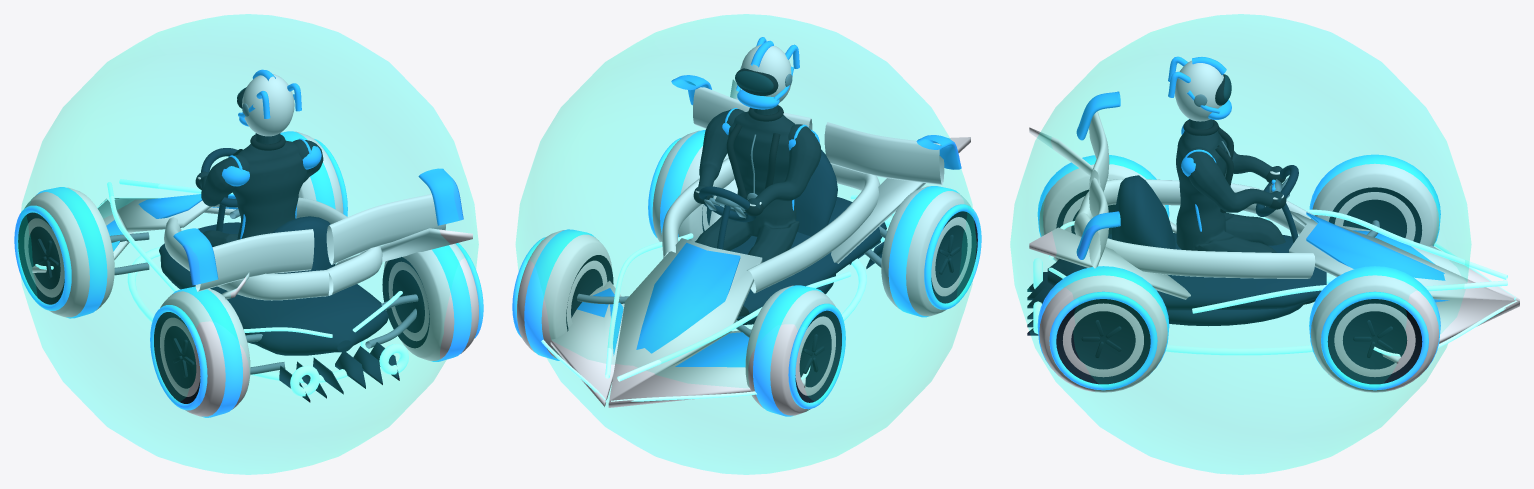
File: vector.glb
3 renders of one model, left to right at view 1: azimuth 30°, elevation 25°; view 2: azimuth 150°, elevation 25°; view 3: azimuth 270°, elevation 25°, orthographic.
Visible parts, largest first — view 1: vector:aegis-shield, vector:coachwork-batch.001, vector:coachwork-batch, vector:torso, vector:rounded-wheel-shell.003, vector:rounded-wheel-shell.002, vector:rounded-wheel-shell, vector:translucent-tire-band, vector:translucent-tire-band.002, vector:helmet-shell, vector:recessed-colored-hub.002, vector:translucent-tire-band.003 (+18 smaller); view 2: vector:aegis-shield, vector:coachwork-batch.001, vector:torso, vector:arrow-bonnet-inlay, vector:coachwork-batch, vector:rounded-wheel-shell.002, vector:rounded-wheel-shell, vector:rounded-wheel-shell.001, vector:translucent-tire-band, vector:translucent-tire-band.002, vector:translucent-tire-band.001, vector:arm-l-mesh (+24 smaller); view 3: vector:aegis-shield, vector:coachwork-batch.001, vector:coachwork-batch, vector:torso, vector:rounded-wheel-shell.003, vector:rounded-wheel-shell.001, vector:rounded-wheel-shell, vector:recessed-colored-hub.003, vector:recessed-colored-hub.001, vector:arrow-bonnet-inlay, vector:arm-r-mesh, vector:rounded-wheel-shell.002 (+15 smaller).
Boxes of the visible parts, left/top/right/bottom form: vector:aegis-shield: left=18, top=14, right=478, bottom=474; vector:coachwork-batch.001: left=32, top=194, right=472, bottom=300; vector:coachwork-batch: left=159, top=195, right=399, bottom=402; vector:torso: left=202, top=133, right=307, bottom=246; vector:rounded-wheel-shell.003: left=383, top=243, right=478, bottom=360; vector:rounded-wheel-shell.002: left=160, top=288, right=250, bottom=416; vector:rounded-wheel-shell: left=24, top=187, right=114, bottom=317; vector:translucent-tire-band: left=36, top=187, right=107, bottom=318; vector:translucent-tire-band.002: left=173, top=286, right=242, bottom=417; vector:helmet-shell: left=242, top=74, right=294, bottom=136; vector:recessed-colored-hub.002: left=154, top=312, right=200, bottom=403; vector:translucent-tire-band.003: left=431, top=245, right=471, bottom=361; vector:aegis-shield: left=516, top=14, right=976, bottom=474; vector:coachwork-batch.001: left=550, top=79, right=970, bottom=407; vector:torso: left=696, top=104, right=799, bottom=262; vector:arrow-bonnet-inlay: left=636, top=242, right=740, bottom=353; vector:coachwork-batch: left=695, top=149, right=886, bottom=324; vector:rounded-wheel-shell.002: left=881, top=186, right=971, bottom=316; vector:rounded-wheel-shell: left=745, top=285, right=835, bottom=415; vector:rounded-wheel-shell.001: left=517, top=230, right=612, bottom=359; vector:translucent-tire-band: left=753, top=285, right=823, bottom=416; vector:translucent-tire-band.002: left=888, top=186, right=959, bottom=317; vector:translucent-tire-band.001: left=524, top=229, right=595, bottom=360; vector:arm-l-mesh: left=748, top=124, right=821, bottom=208; vector:aegis-shield: left=1010, top=14, right=1471, bottom=474; vector:coachwork-batch.001: left=1029, top=111, right=1519, bottom=363; vector:coachwork-batch: left=1027, top=175, right=1326, bottom=335; vector:torso: left=1176, top=119, right=1285, bottom=252; vector:rounded-wheel-shell.003: left=1039, top=275, right=1167, bottom=392; vector:rounded-wheel-shell.001: left=1310, top=275, right=1439, bottom=392; vector:rounded-wheel-shell: left=1312, top=163, right=1439, bottom=245; vector:recessed-colored-hub.003: left=1056, top=299, right=1150, bottom=384; vector:recessed-colored-hub.001: left=1327, top=299, right=1422, bottom=384; vector:arrow-bonnet-inlay: left=1306, top=212, right=1445, bottom=280; vector:arm-r-mesh: left=1185, top=147, right=1282, bottom=212; vector:rounded-wheel-shell.002: left=1039, top=164, right=1166, bottom=261.
Size of the model in its own units: 4.3 by 4.3 by 4.75.
